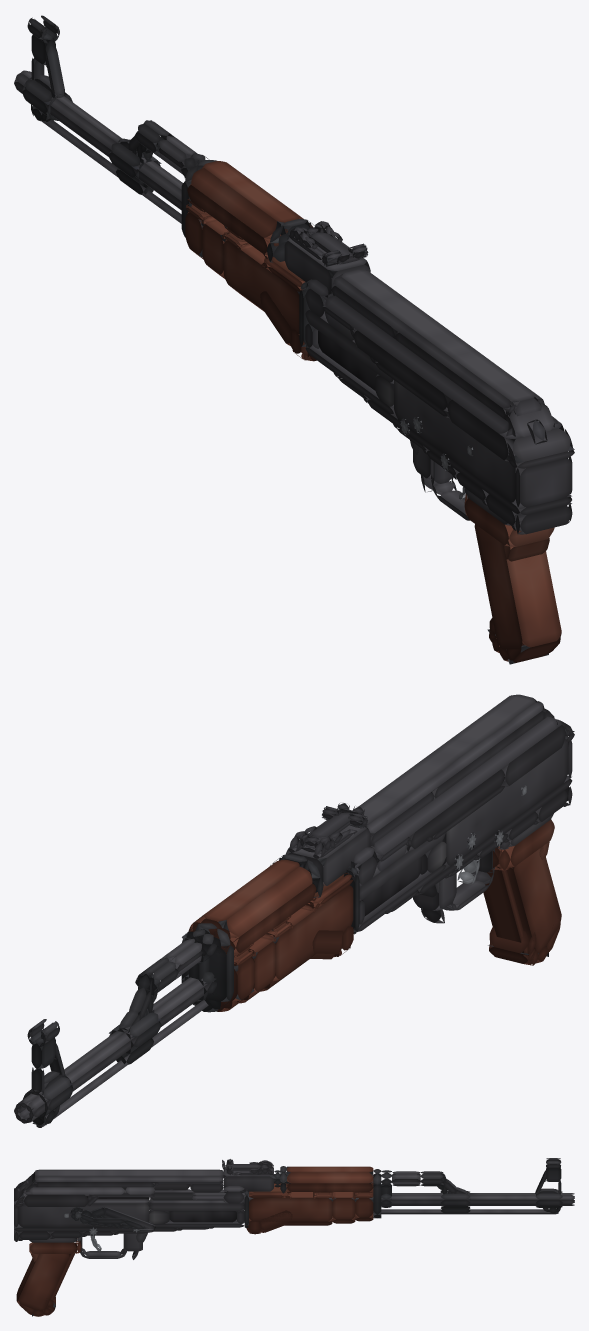
3 renders of one model, top to bottom at view 1: azimuth 30°, elevation 25°; view 2: azimuth 150°, elevation 25°; view 3: azimuth 270°, elevation 25°, orthographic. The views are drawn at different scales.
Parts seen in each view (by area): view 1: cube_80, cube_8, cube_48, cube_15, cube_110, cube_13, cube_59, cube_138, cube_136, cube_145, cube_60, cube_16 (+15 smaller); view 2: cube_48, cube_8, cube_80, cube_15, cube_110, cube_13, cube_138, cube_136, cube_84, cube_145, cube_16, cube_128 (+22 smaller); view 3: cube_48, cube_110, cube_80, cube_8, cube_12, cube_137, cube_54, cube_153, cube_164, cube_155, cube_145, cube_9 (+27 smaller).
Part boxes in pixels (x1,y1,x2,y2): cube_80: (474,524,561,649); cube_8: (340,269,535,406); cube_48: (394,380,567,502); cube_15: (325,295,512,438); cube_110: (223,239,304,334); cube_13: (333,276,515,412); cube_59: (515,456,572,507); cube_138: (191,168,287,246); cube_136: (202,161,299,229); cube_145: (284,232,370,297); cube_60: (367,399,571,514); cube_16: (353,328,450,411); cube_48: (442,738,567,865); cube_8: (358,694,535,826); cube_80: (483,846,561,955); cube_15: (370,716,557,859); cube_110: (254,885,353,981); cube_13: (366,701,544,835); cube_138: (215,866,312,942); cube_136: (200,859,303,934); cube_84: (484,866,528,956); cube_145: (285,820,370,885); cube_16: (407,769,504,851); cube_128: (188,883,316,953); cube_48: (18,1190,149,1227); cube_110: (249,1191,332,1221); cube_80: (16,1254,70,1310); cube_8: (35,1169,223,1178); cube_12: (35,1176,223,1182); cube_137: (287,1172,373,1185); cube_54: (149,1200,244,1210); cube_153: (193,1199,574,1204); cube_164: (381,1209,557,1214); cube_155: (192,1195,574,1199); cube_145: (223,1167,273,1191); cube_9: (23,1180,88,1206).
Size of the model in its own units: 14.43 by 57.73 by 193.
1 material, 1 textured.
